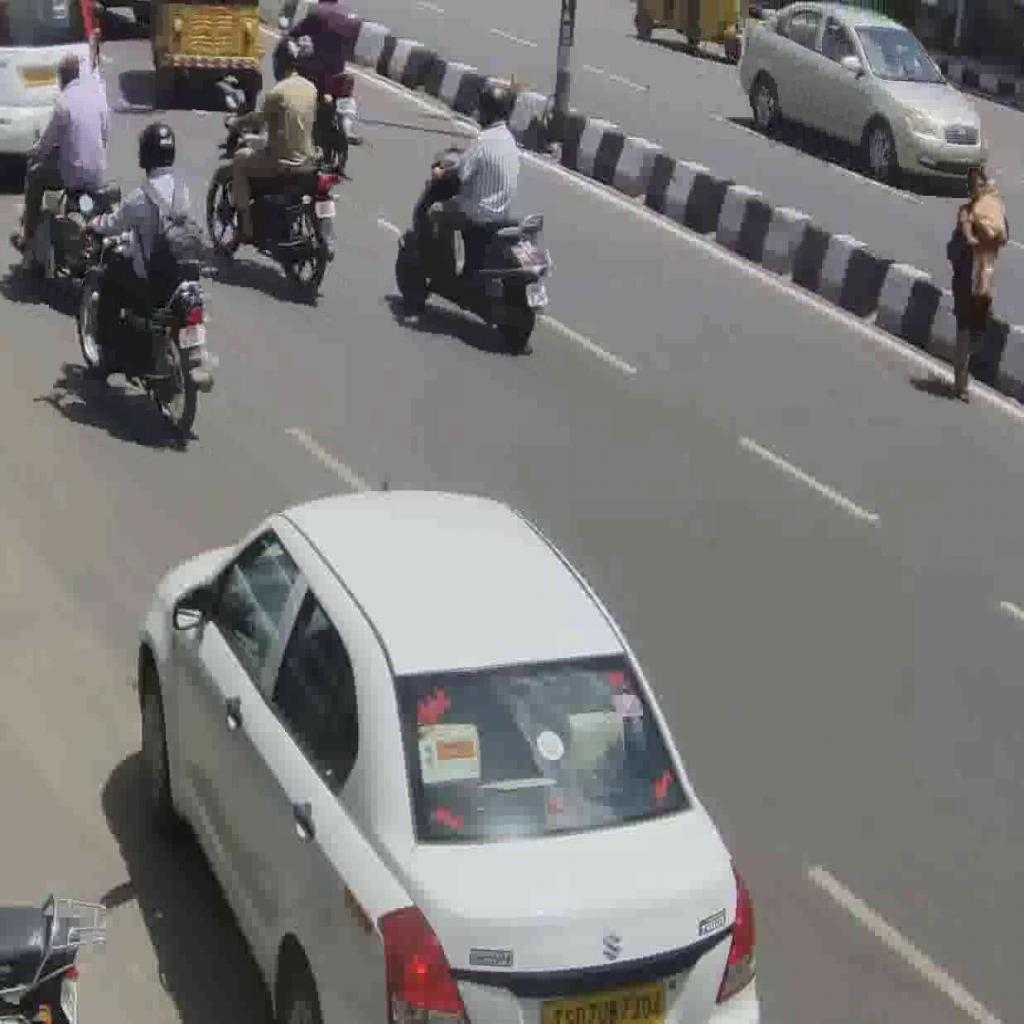helmet: (76, 208, 216, 437), (394, 145, 550, 348), (206, 101, 340, 298), (20, 129, 127, 285), (272, 21, 364, 172)
